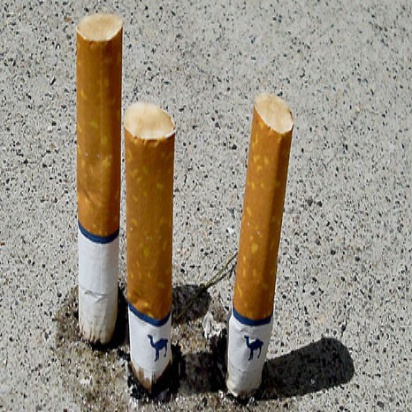cigarette: (219, 89, 306, 407), (70, 10, 123, 351), (125, 99, 186, 392)
